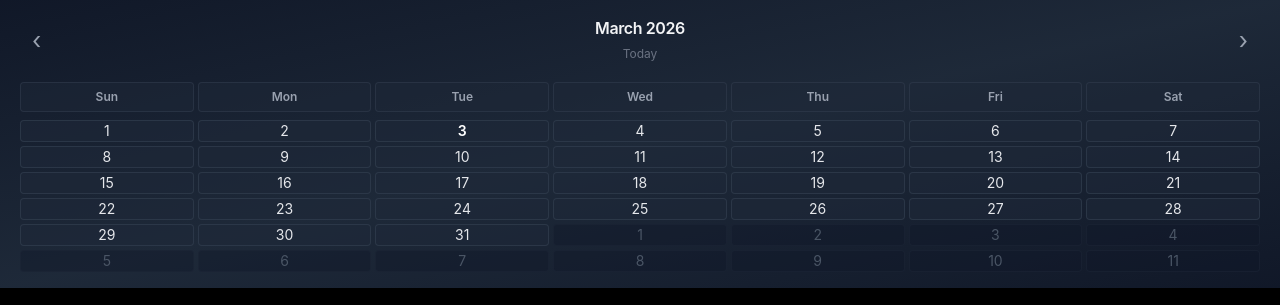
Test: <Calendar /> › should navigate to previous month
The image size is (1280, 305).
Click the button "‹" at (37, 41), box [24,21,49,61]
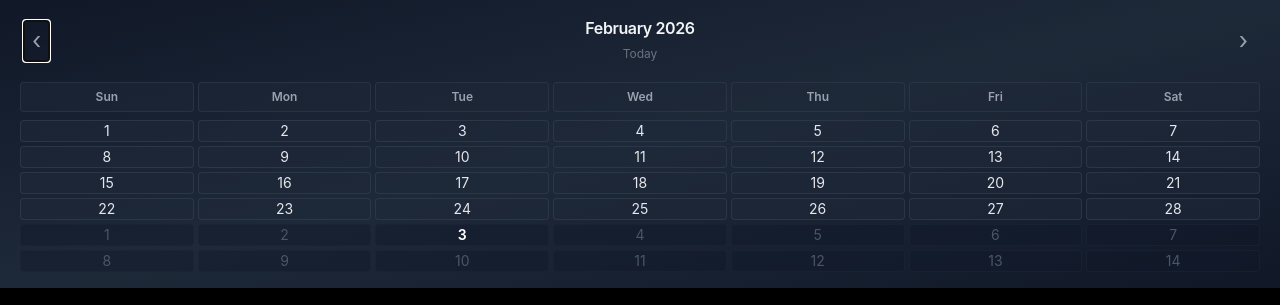
Check: the heading "February 2026" is shown, box [585,16,695,40]
